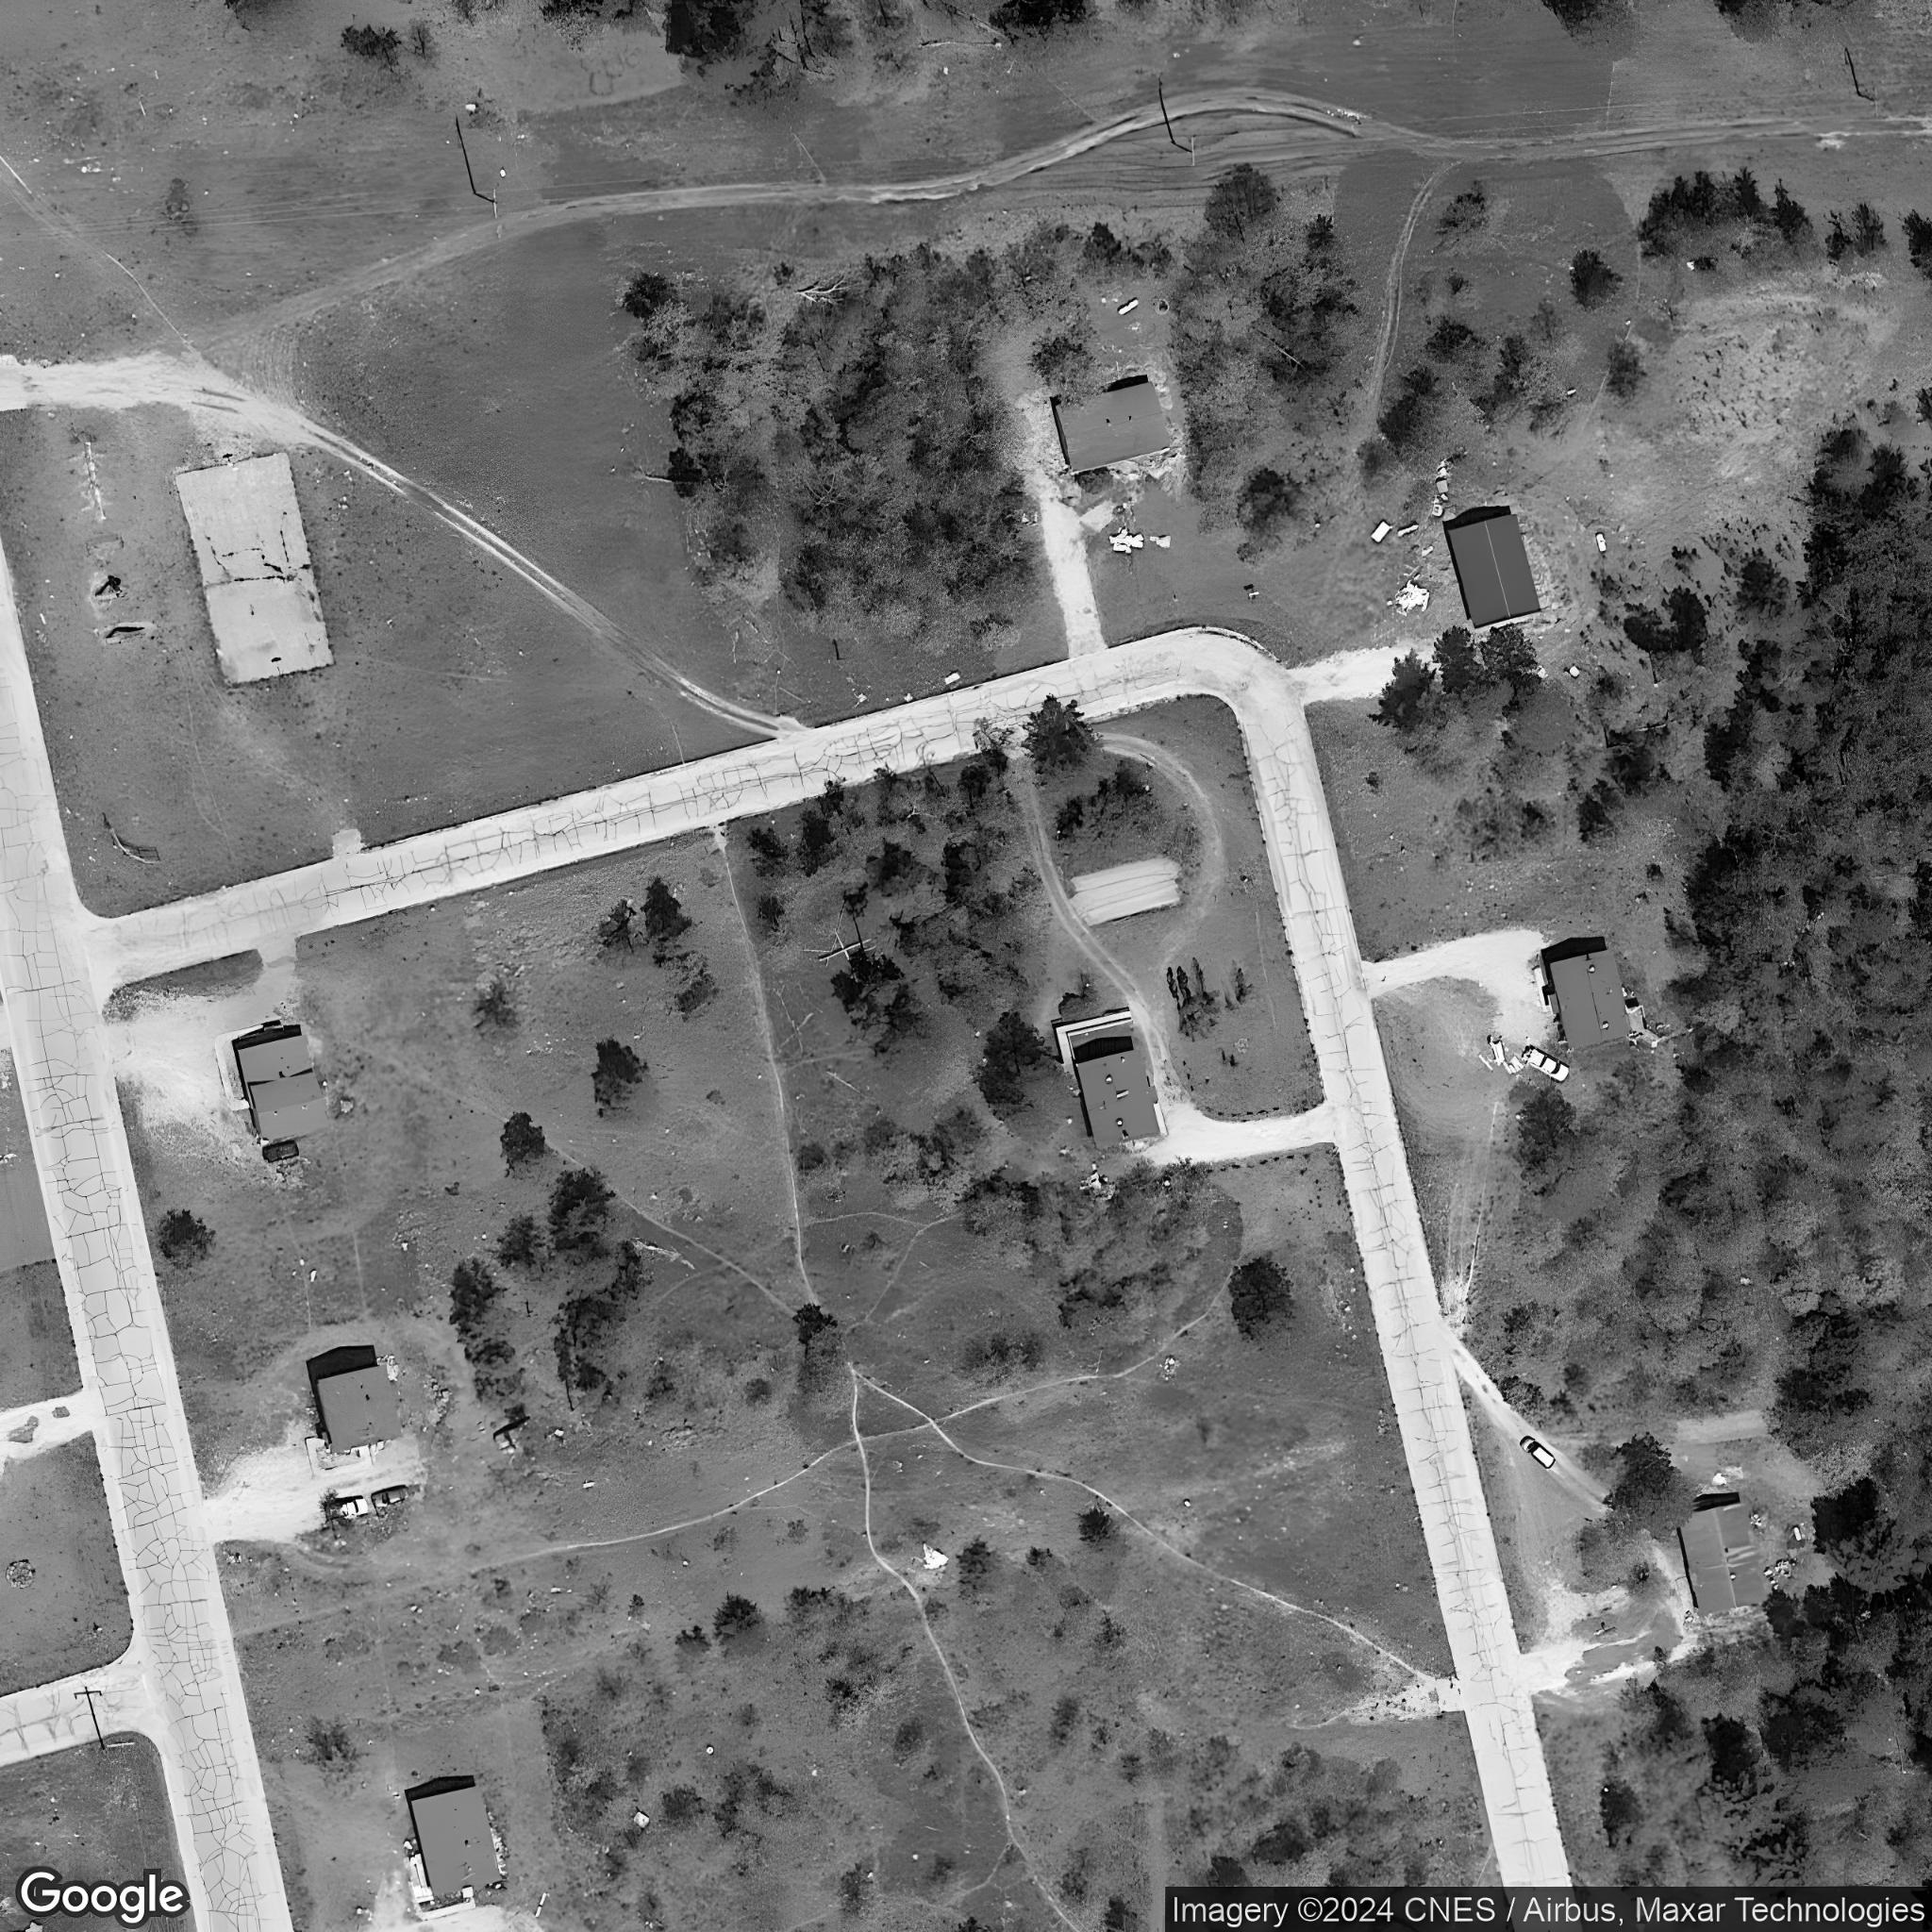House: (1440, 511, 1545, 632), (1051, 377, 1173, 478), (1674, 1499, 1773, 1619), (407, 1782, 504, 1902), (232, 1031, 334, 1143), (1546, 945, 1637, 1056), (313, 1355, 405, 1456), (1074, 1047, 1164, 1150)
Propane: (1111, 294, 1143, 318), (1592, 529, 1614, 557), (1790, 1523, 1803, 1543)
